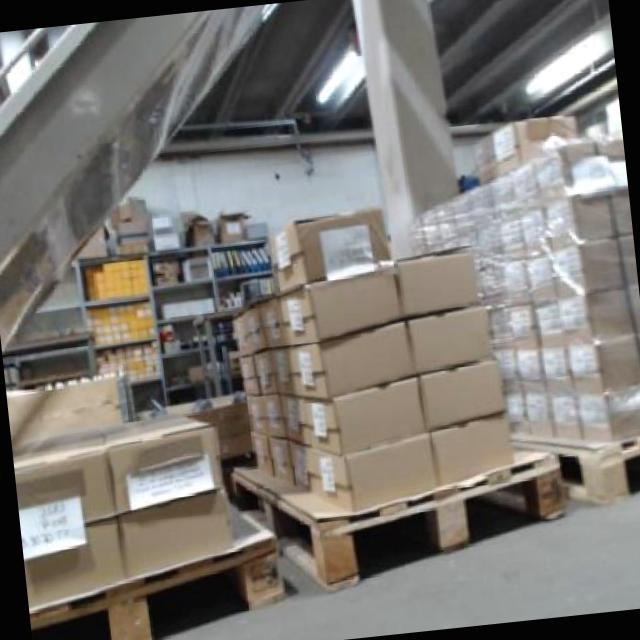pallet: (311, 461, 569, 592), (22, 521, 295, 640)
